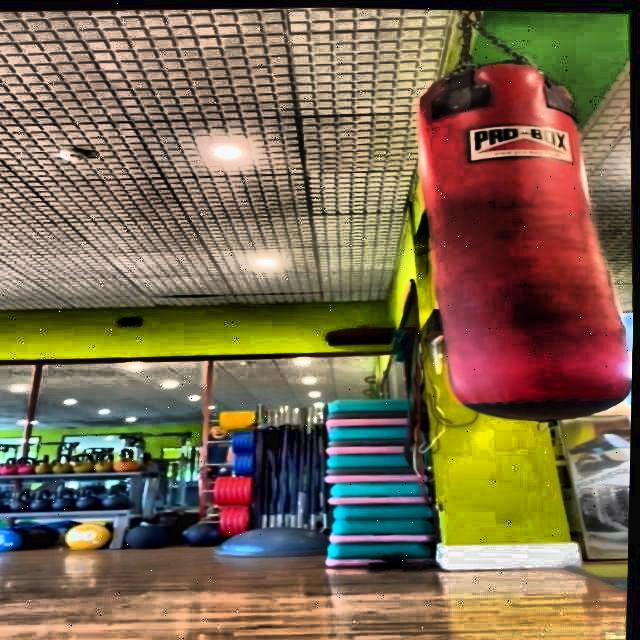boxing-bag: (406, 7, 633, 431)
